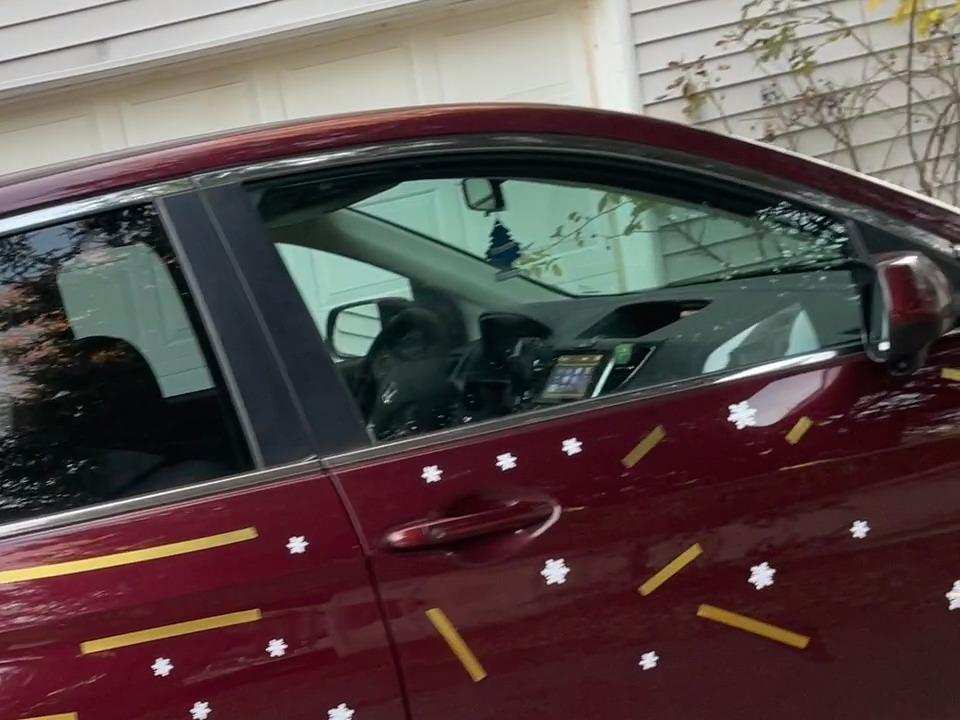dent: (724, 399, 762, 433), (744, 558, 779, 593), (541, 556, 576, 587), (417, 459, 449, 491), (146, 653, 177, 682), (492, 450, 524, 475), (324, 698, 359, 720), (285, 531, 311, 560), (264, 636, 291, 662), (186, 697, 216, 720), (636, 647, 662, 673), (558, 437, 588, 459), (850, 518, 871, 539)
scratch: (0, 523, 262, 592), (80, 602, 261, 662), (690, 598, 819, 655), (421, 604, 494, 685), (634, 536, 704, 598), (618, 418, 672, 478), (781, 410, 823, 448), (0, 706, 81, 720)
